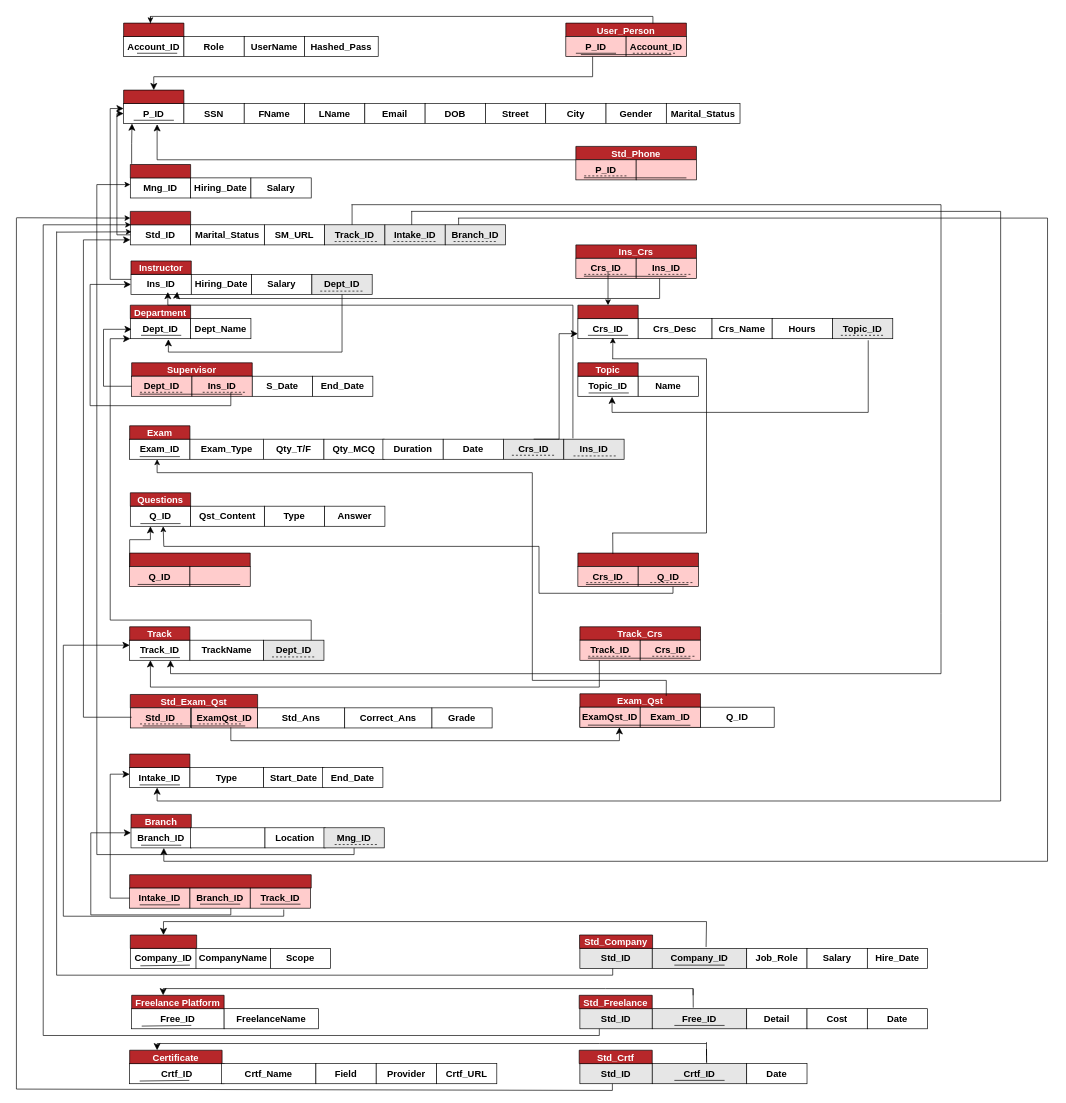
This 1066x1103 diagram has some shape labels left out. The shapes that lost their labels are listed below. From the top down, each one's centre as x and y in pixels, then its label:
At (153,29): "User".
At (153,96): "Person".
At (160,171): "Manager".
At (665,169): "Phone".
At (160,218): "Student".
At (607,312): "Course".
At (189,559): "Questions _Choices".
At (219,576): "Choice".
At (637,559): "Crs_Qst".
At (159,760): "Intake".
At (227,837): "Branch_Name".
At (220,881): "Intake_Brch_Trk".
At (163,941): "Company".
